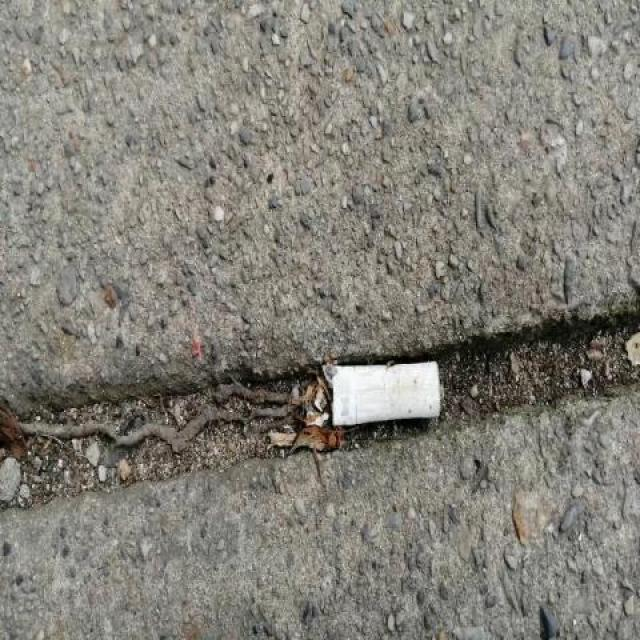non-organic waste: (320, 354, 444, 437)
